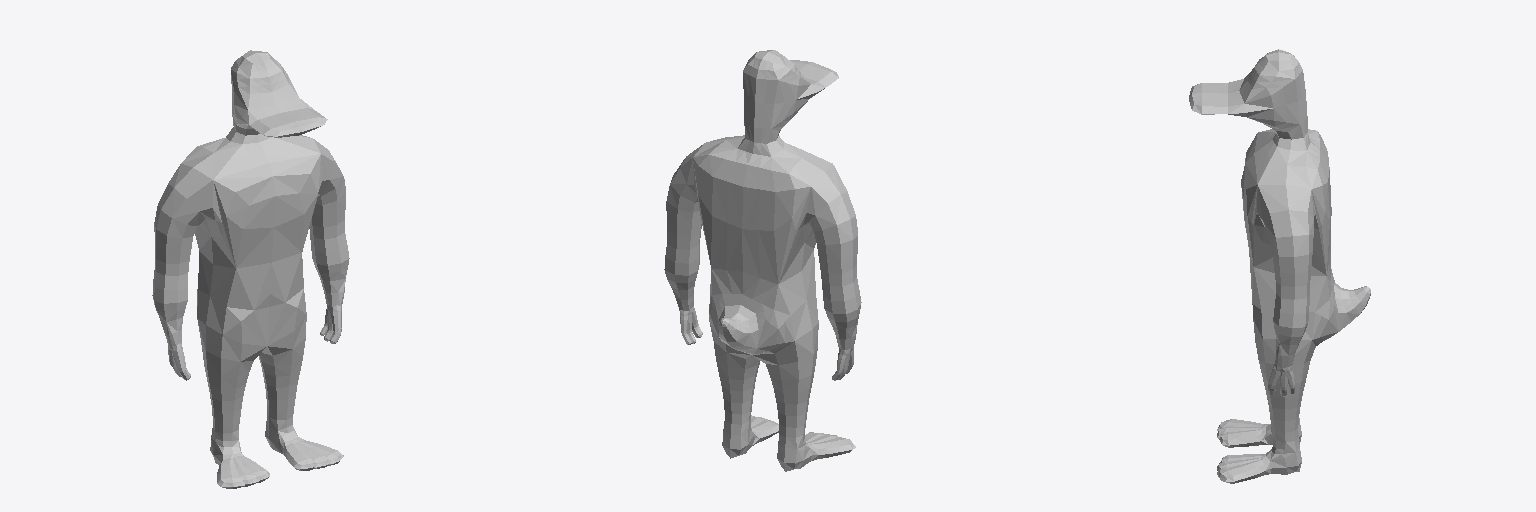
The model's file is canard_000000.obj.
The picture shows the model from 3 angles: view 1: azimuth 30°, elevation 25°; view 2: azimuth 150°, elevation 25°; view 3: azimuth 270°, elevation 25°; orthographic projection.
Parts seen in each view (by area): view 1: Cube; view 2: Cube; view 3: Cube.
Boxes of the visible parts, x1,y1,x2,y2 form: Cube: [152, 50, 349, 488]; Cube: [664, 50, 861, 471]; Cube: [1189, 49, 1370, 483].
Bounding box in the file's own units: 1.38 × 2.8 × 1.14.